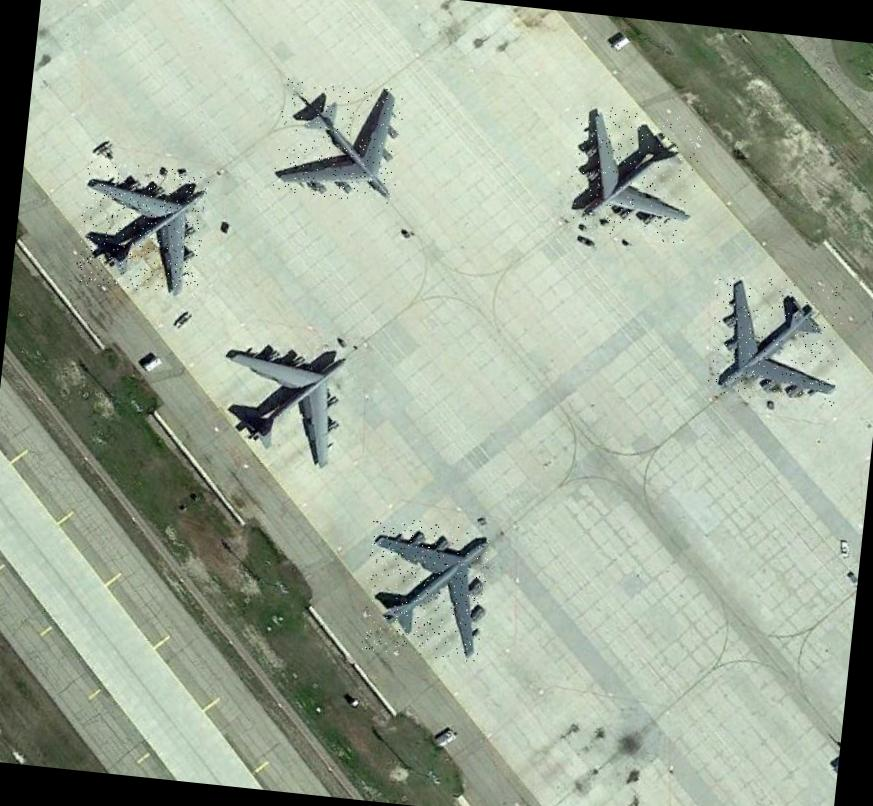A8: (562, 104, 702, 244), (212, 326, 350, 468), (359, 516, 490, 663), (703, 272, 846, 406), (73, 160, 208, 297), (272, 78, 404, 204)
